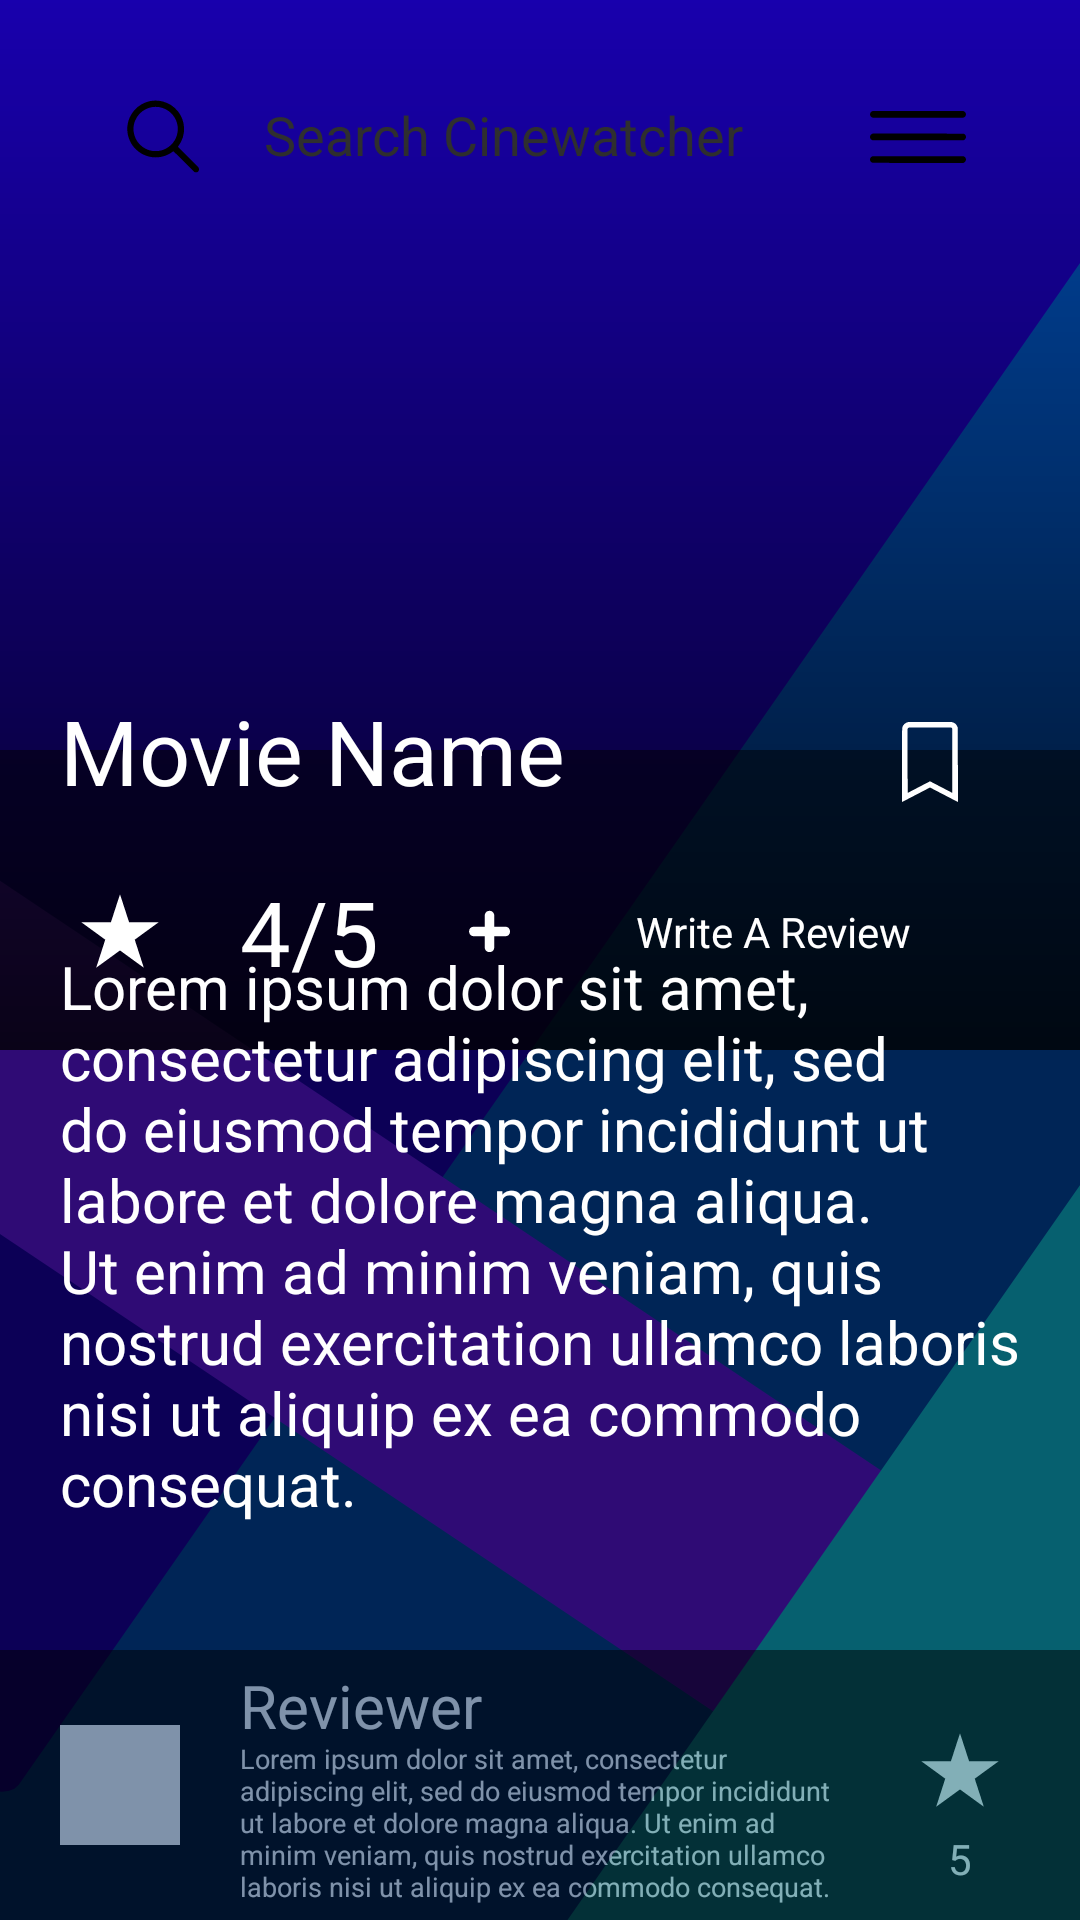

Icons on this 1080px×1920px Android screen, each with the point to tap as (x=x, y=y):
Options: (x=918, y=113)
rating star: (x=120, y=931), (x=960, y=1770)
Save: (x=930, y=762)
